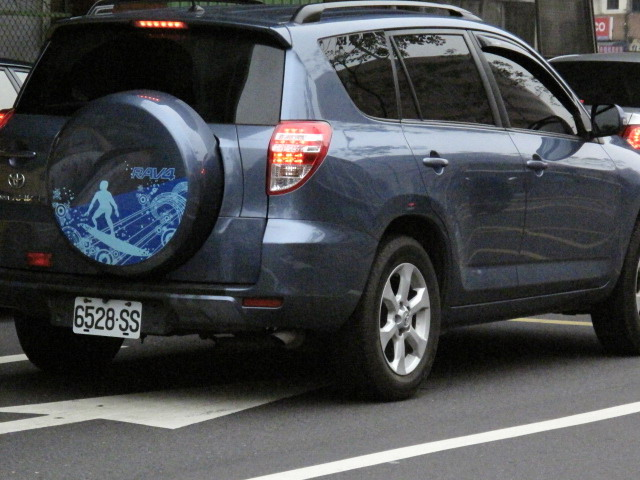plate: (71, 291, 145, 344)
